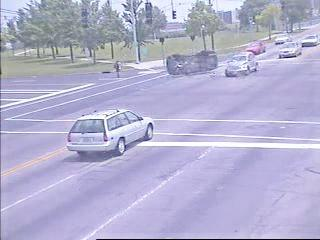Car: (65, 111, 154, 155), (168, 50, 220, 75), (225, 51, 258, 77), (278, 42, 302, 58), (246, 41, 266, 55), (300, 34, 319, 47), (274, 34, 290, 45)
Major Accident: (166, 48, 259, 79)
